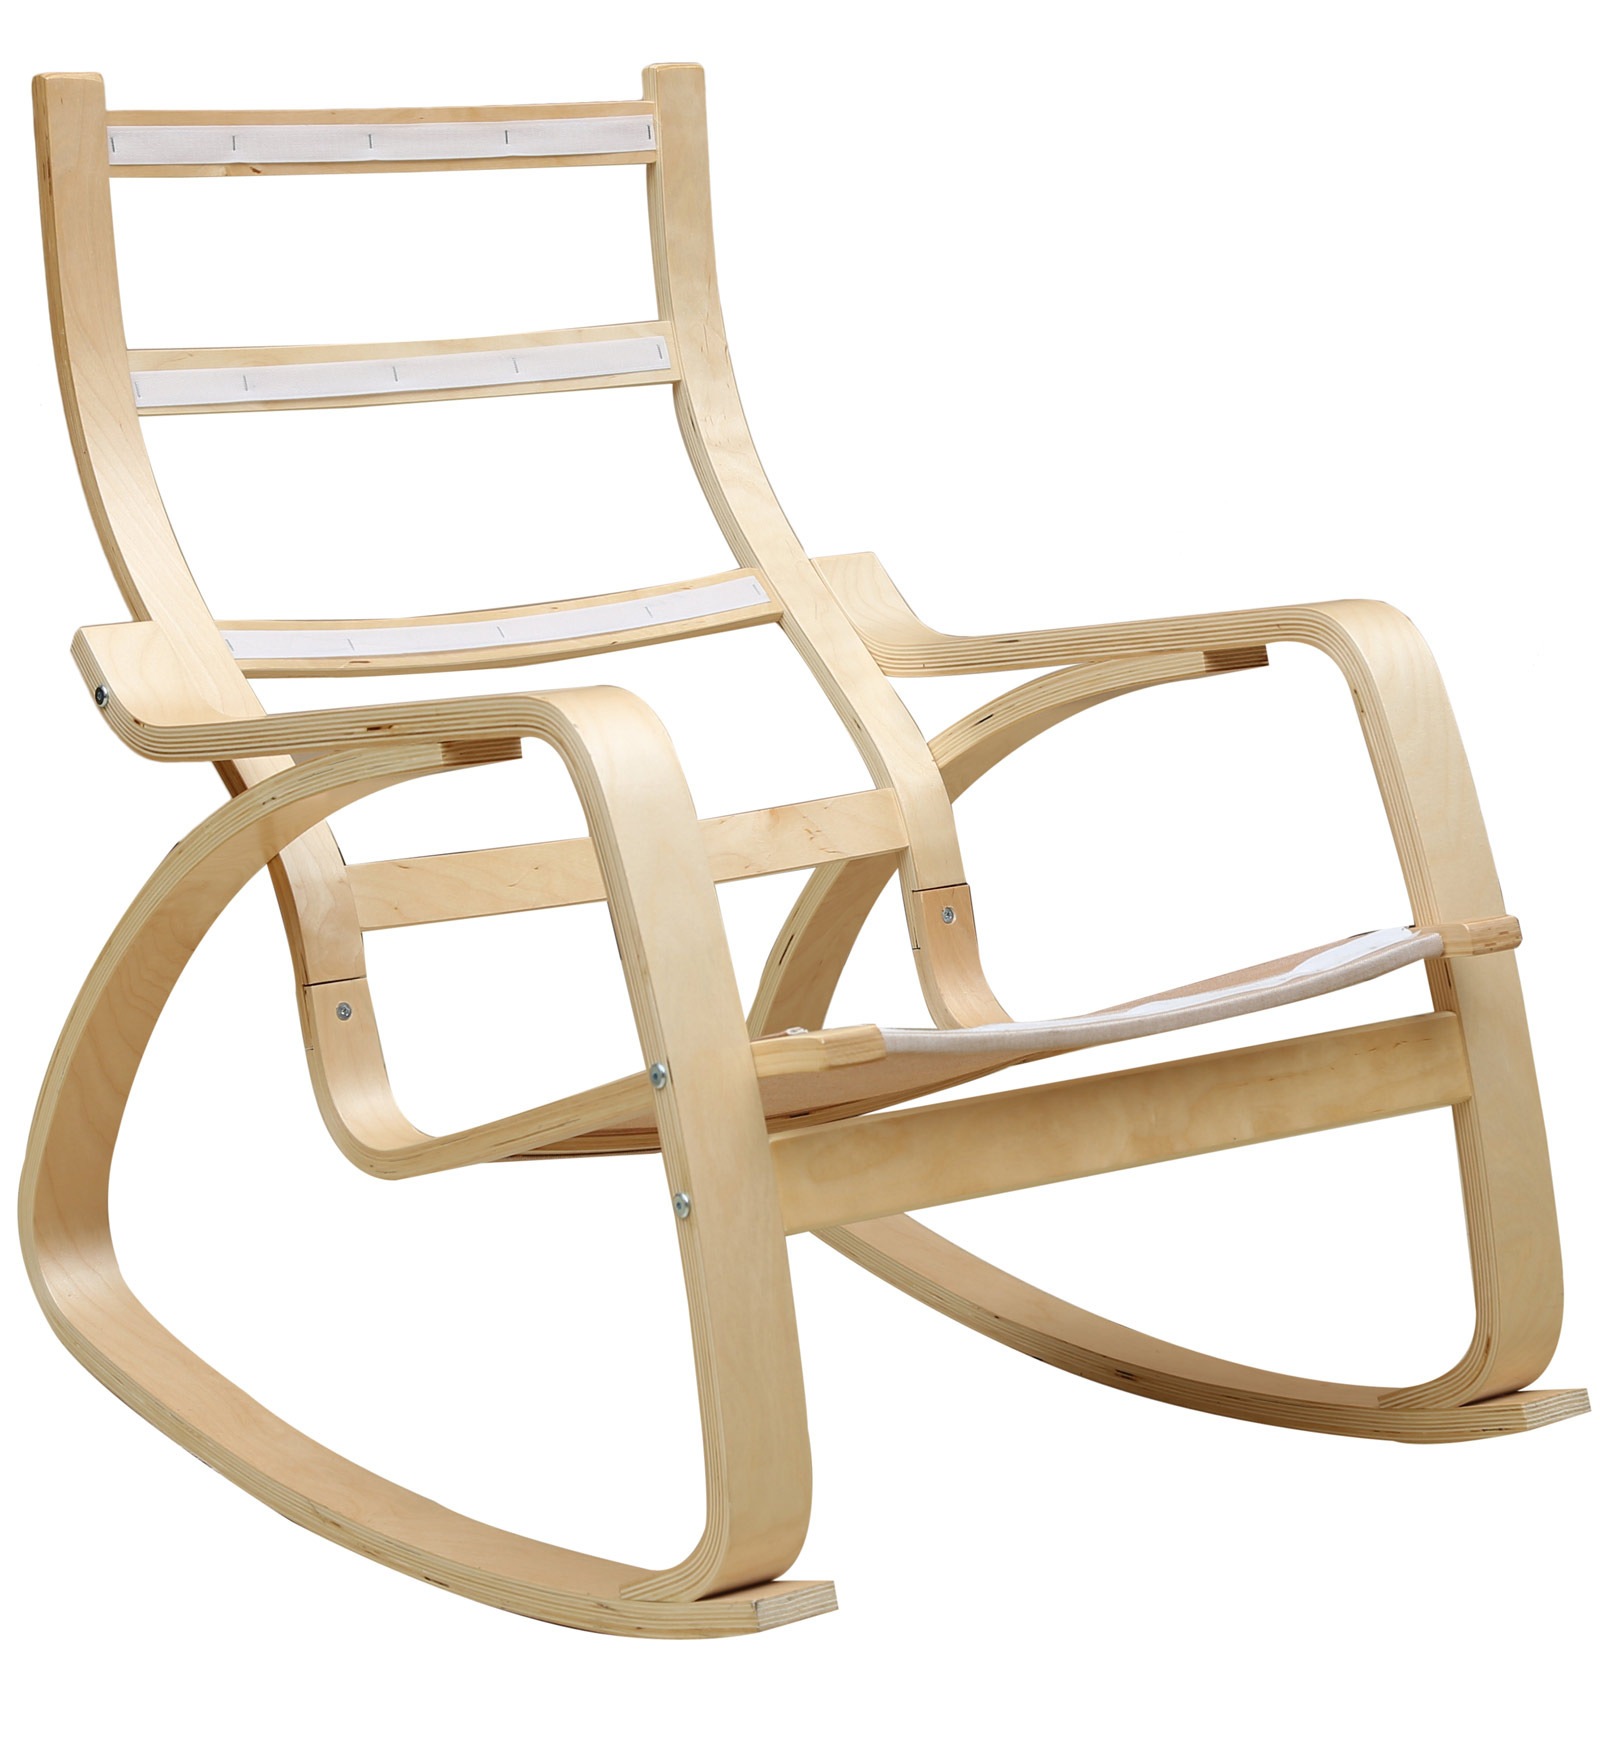Vita Rocking Chair with Brown Cushion by HomeTown: (18, 35, 1597, 1648)
